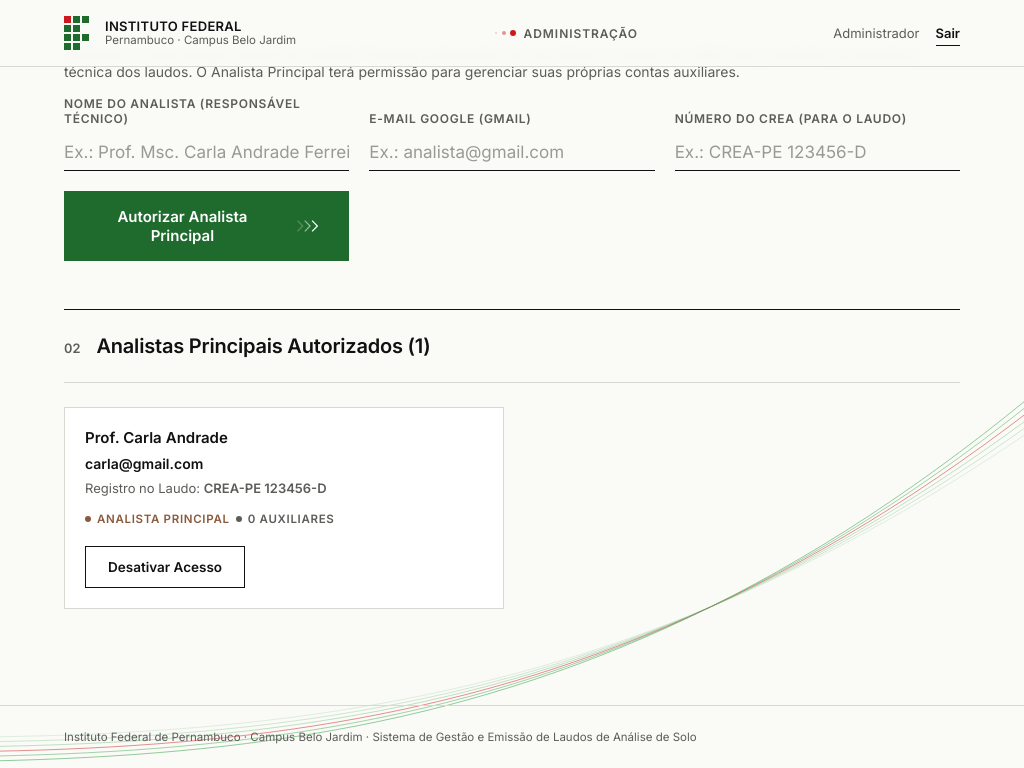
Test case: PowerUserPage › remove analista e bloqueia duplo clique enquanto a remoção está em andamento
The image size is (1024, 768).
Later steps or results of the test are not shown.
(page scrolled)
Click the button "Desativar Acesso" at [165, 567], box [85,546,245,588]
(page scrolled)
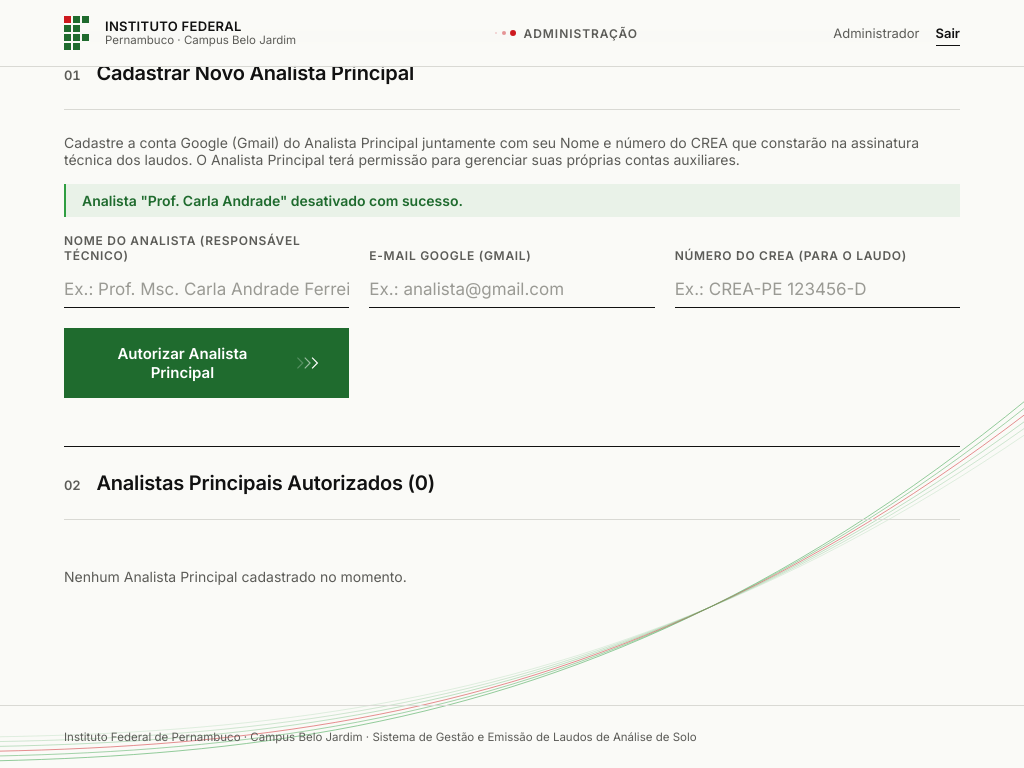
Check: the message reads "Analista \"Prof. Carla Andrade\" desativado com sucesso.", box [82,192,463,209]
